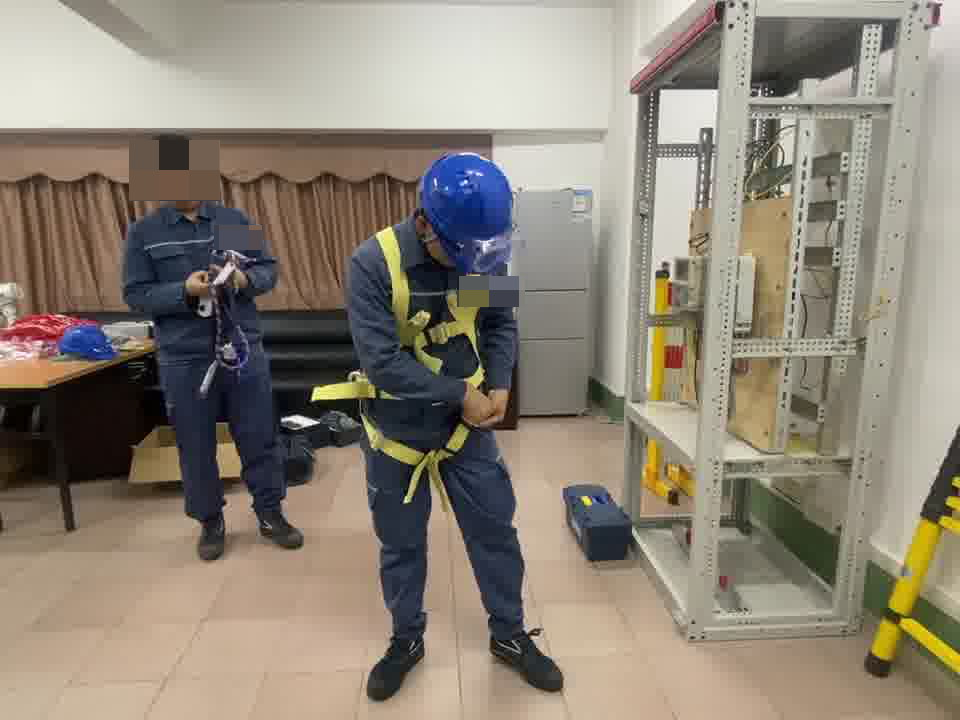downsuit: (363, 386, 531, 636), (161, 360, 286, 518)
halt: (419, 154, 517, 269), (143, 133, 208, 207)
hand: (481, 390, 509, 426), (213, 263, 251, 289), (466, 386, 491, 423), (186, 269, 206, 299)
noear: (148, 167, 187, 199)
person: (343, 150, 558, 701), (122, 136, 299, 552)
safebelt: (351, 230, 507, 509)
unhalt: (143, 133, 208, 208)
upsuit: (345, 215, 520, 392), (125, 202, 277, 342)
